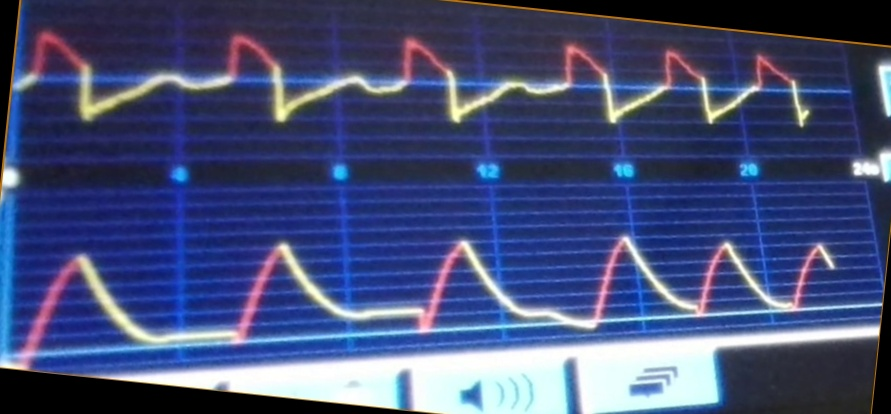Ineffective_effort Flow: (18, 24, 811, 140)
Ineffective_effort Volume: (13, 229, 840, 352)
